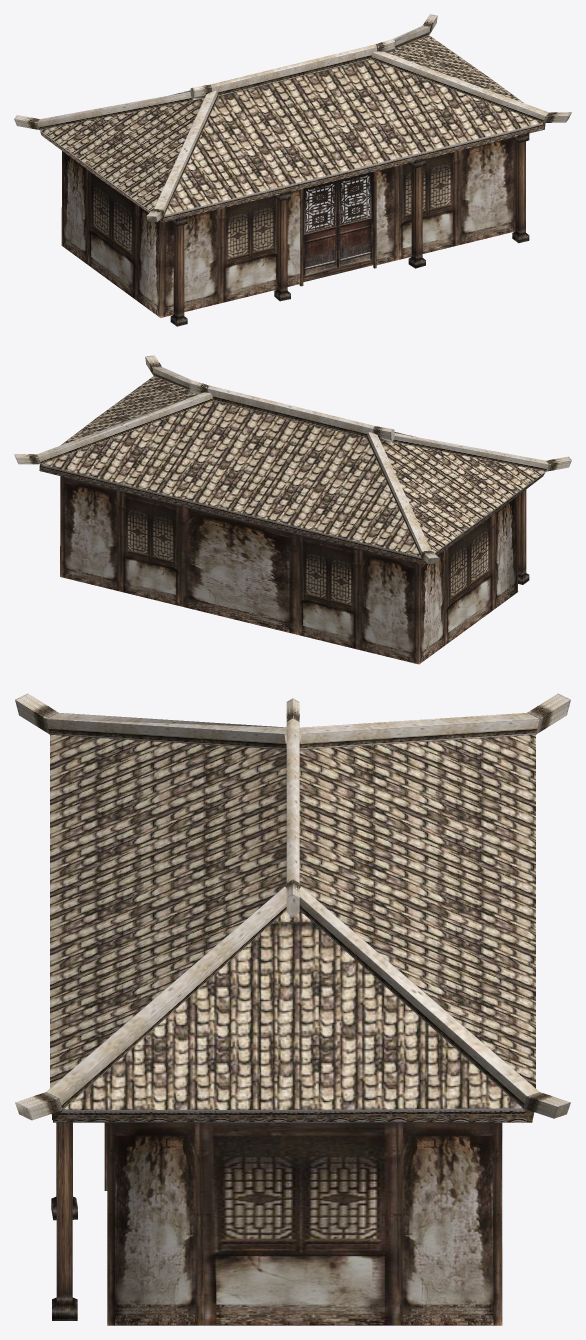
Rendered from Btf18.obj.
3 views of the same model, one above another, from view 1: azimuth 30°, elevation 25°; view 2: azimuth 150°, elevation 25°; view 3: azimuth 270°, elevation 25° (orthographic). The views are drawn at different scales.
Parts seen in each view (by area): view 1: Btf18; view 2: Btf18; view 3: Btf18.
Part boxes in pixels (box(x1,y1,x2,y2)): Btf18: box(14, 14, 571, 326); Btf18: box(14, 355, 571, 664); Btf18: box(15, 693, 570, 1325).
Size of the model in its own units: 373 by 150 by 211.
